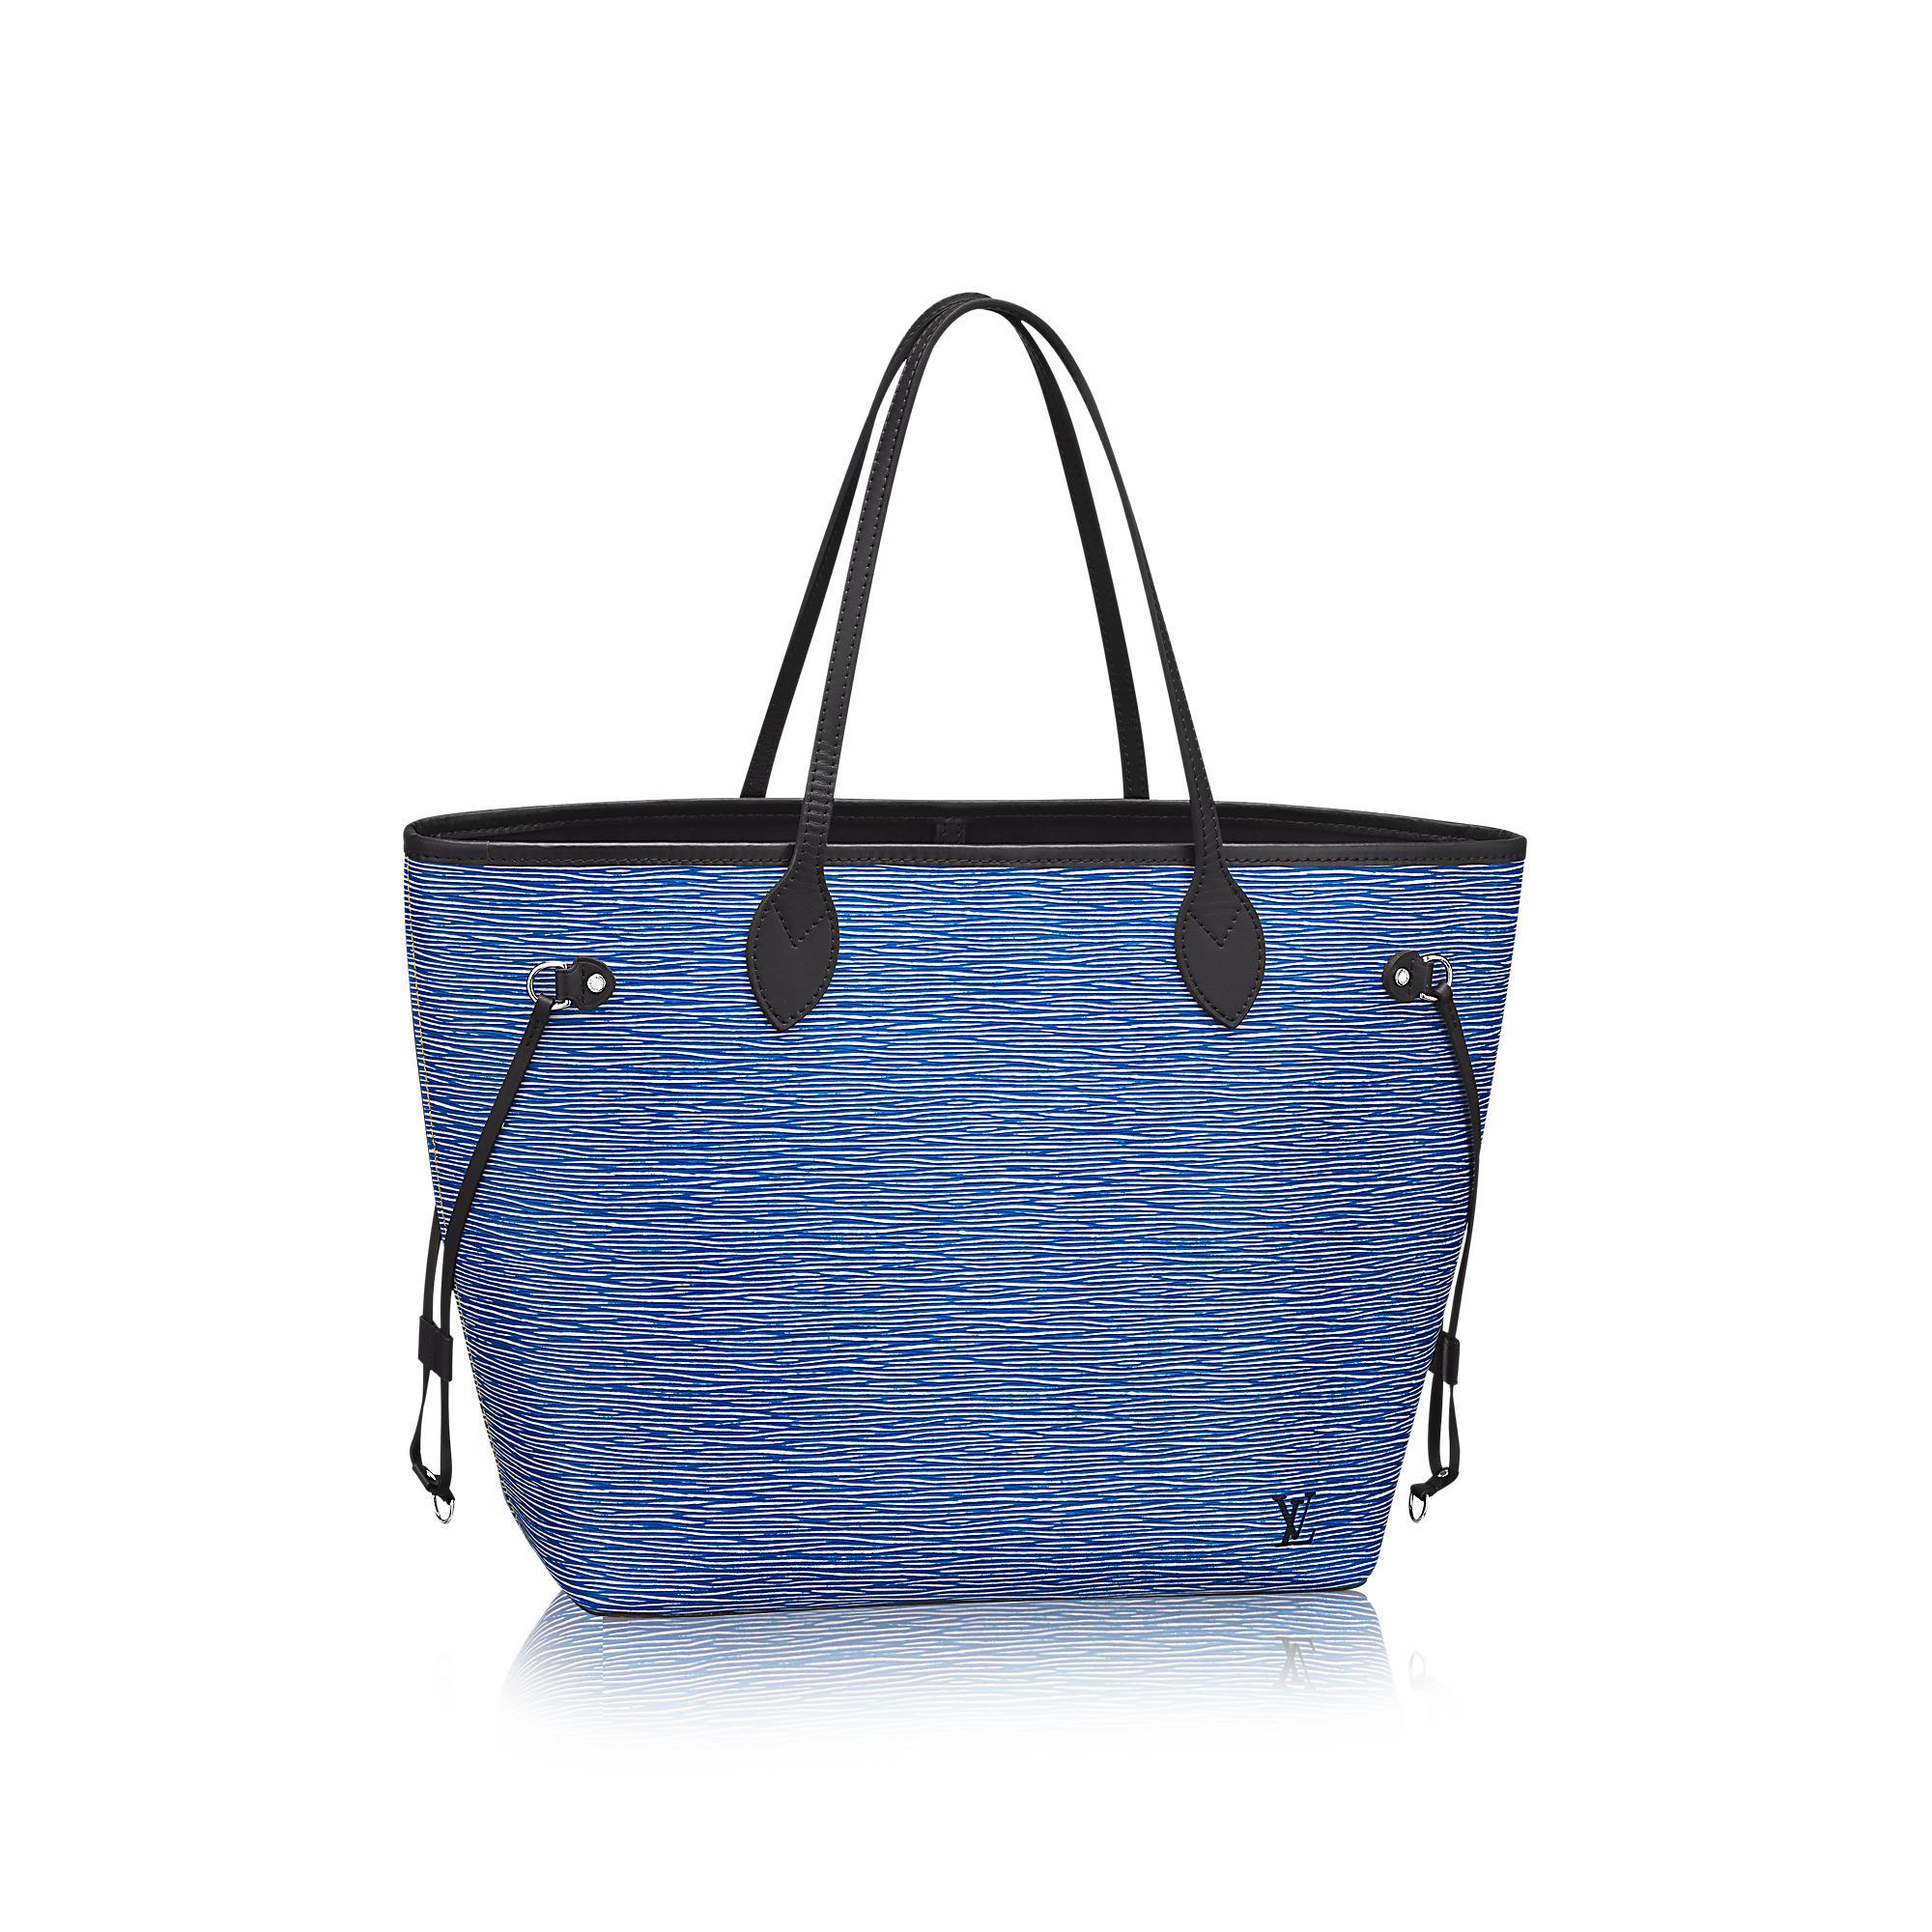LOUIS-VUITTON: (1270, 1488, 1320, 1548)
